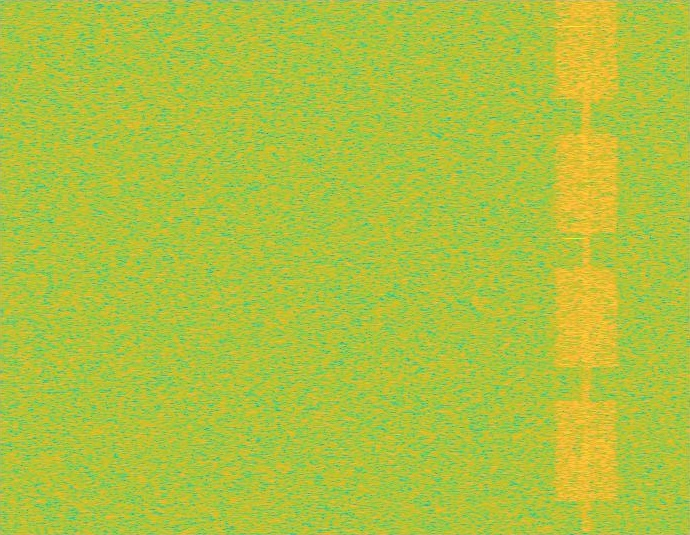5G: (552, 0, 621, 534)
DSSS: (582, 0, 591, 534)
Radar: (568, 0, 582, 534)
